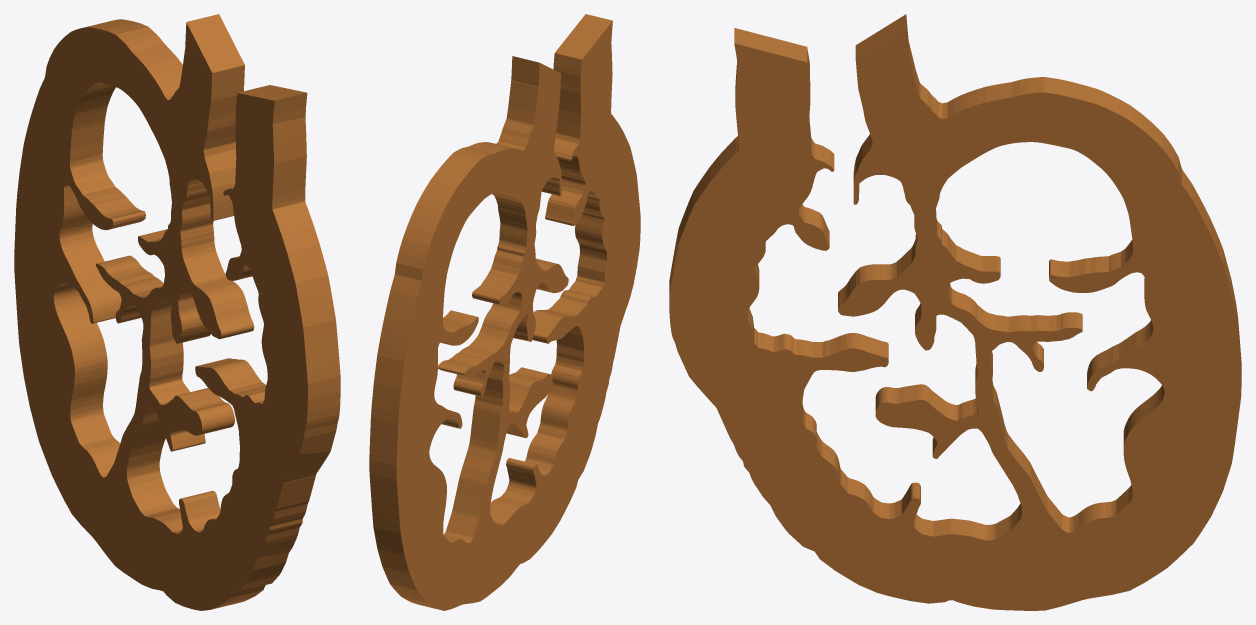
File: Map v1.2.fbx
The picture shows the model from 3 angles, left to right: view 1: azimuth 30°, elevation 25°; view 2: azimuth 150°, elevation 25°; view 3: azimuth 270°, elevation 25°; orthographic projection. The views are drawn at different scales.
Parts seen in each view (by area): view 1: Level; view 2: Level; view 3: Level.
Part boxes in pixels (box(x1,y1,x2,y2)): Level: box(14, 14, 340, 610); Level: box(369, 14, 640, 610); Level: box(669, 14, 1241, 610).
Size of the model in its own units: 291 by 5060 by 4515.
